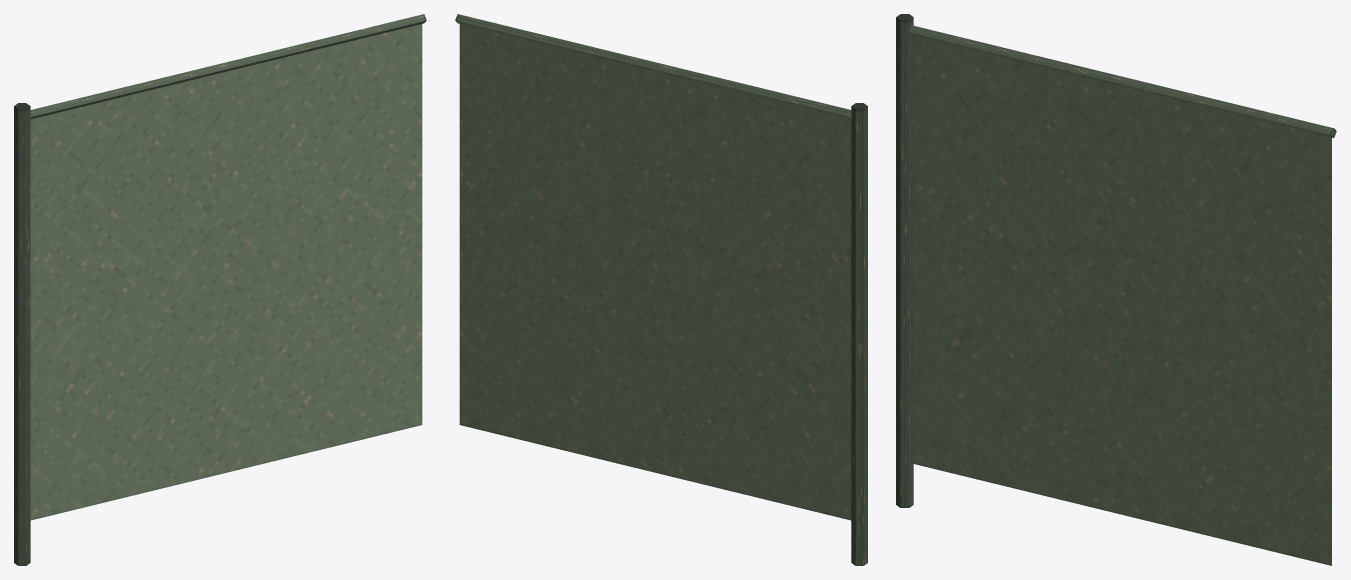
The model's file is SM_Forest_Fence_Chainlink_200x10x200.fbx.
3 views of the same model, side by side, from view 1: azimuth 30°, elevation 25°; view 2: azimuth 150°, elevation 25°; view 3: azimuth 330°, elevation 25° (orthographic). The views are drawn at different scales.
Visible parts, largest first — view 1: SM_Forest_Fence_Chainlink_200x10x200.052; view 2: SM_Forest_Fence_Chainlink_200x10x200.052; view 3: SM_Forest_Fence_Chainlink_200x10x200.052.
Boxes of the visible parts, <box> form: SM_Forest_Fence_Chainlink_200x10x200.052: <box>14,14,426,565</box>; SM_Forest_Fence_Chainlink_200x10x200.052: <box>455,14,867,565</box>; SM_Forest_Fence_Chainlink_200x10x200.052: <box>896,14,1336,565</box>.
Bounding box in the file's own units: 2.01 × 2.15 × 0.07.
